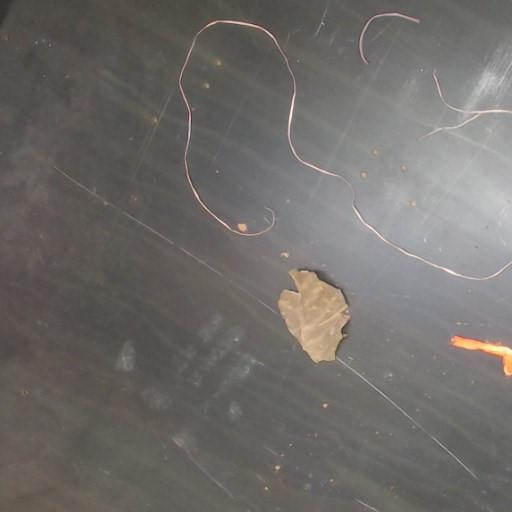conveyor belt: (0, 0, 511, 511)
thread: (178, 21, 353, 235), (352, 195, 511, 281), (425, 71, 511, 135), (359, 12, 419, 63), (451, 336, 511, 376)
